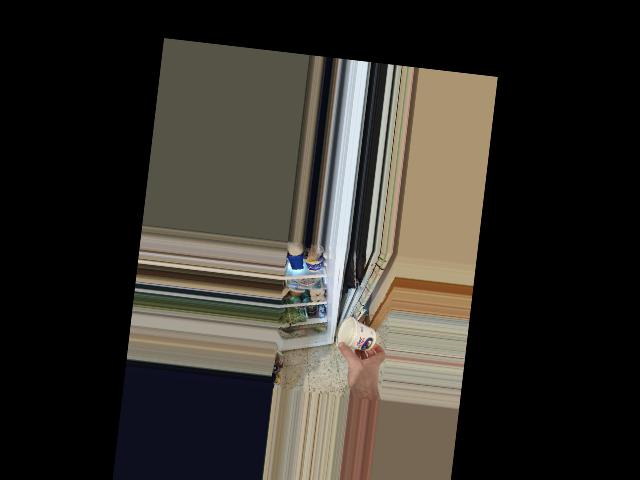cotage: (337, 318, 378, 355)
